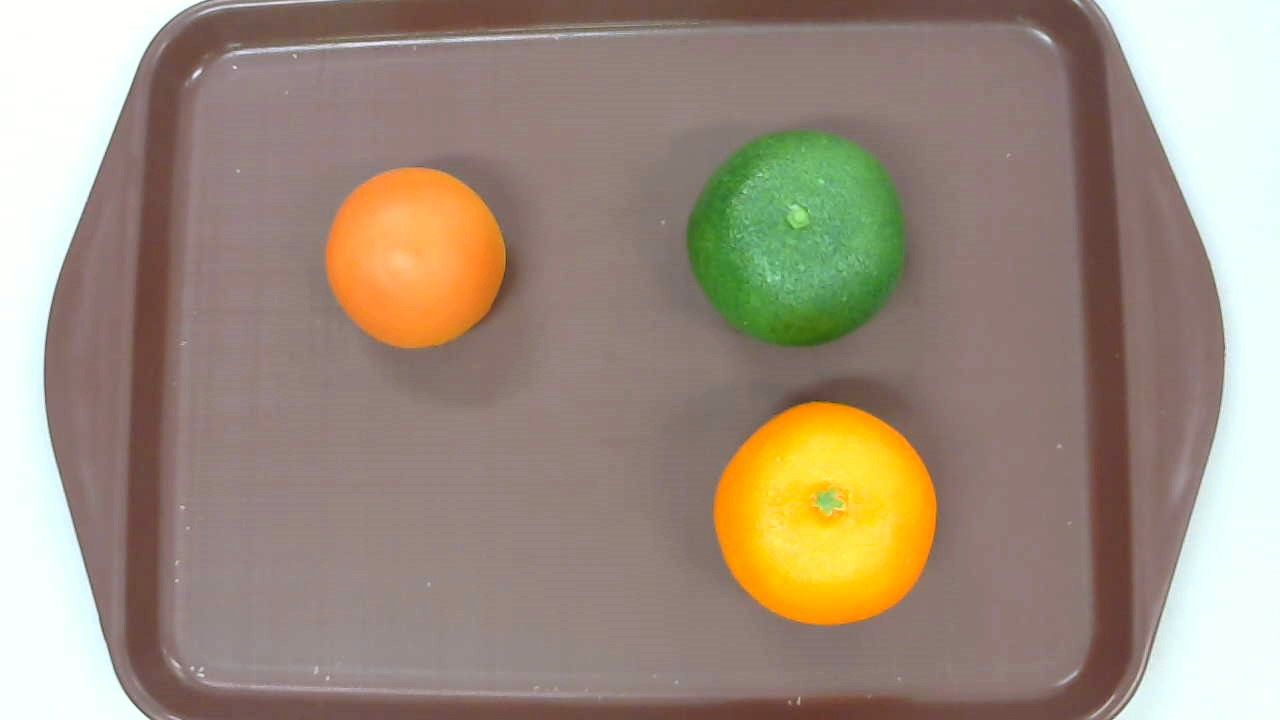bun: (326, 168, 505, 350)
green orange: (686, 128, 908, 348)
orange: (712, 398, 938, 628)
